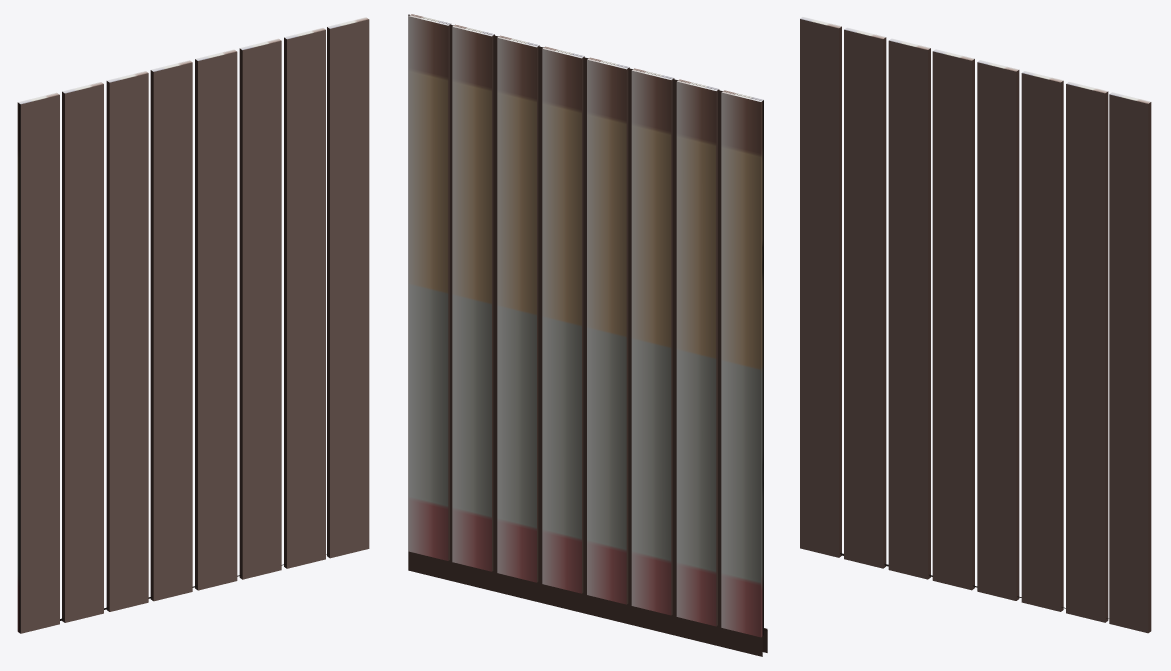
File: paredeMadeiraRodape.fbx
3 views of the same model, side by side, from view 1: azimuth 30°, elevation 25°; view 2: azimuth 150°, elevation 25°; view 3: azimuth 330°, elevation 25° (orthographic).
Parts seen in each view (by area): view 1: ParedeRodape_LoPo; view 2: ParedeRodape_LoPo; view 3: ParedeRodape_LoPo.
Part boxes in pixels (left/top/right/bottom): ParedeRodape_LoPo: left=17, top=17, right=369, bottom=633; ParedeRodape_LoPo: left=408, top=14, right=767, bottom=656; ParedeRodape_LoPo: left=800, top=17, right=1151, bottom=633.
Size of the model in its own units: 200 by 300 by 10.
